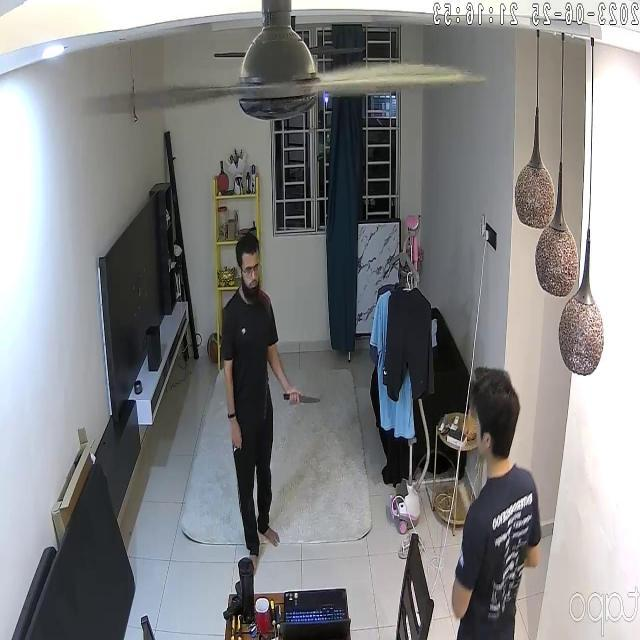Knife: (285, 379, 336, 425)
